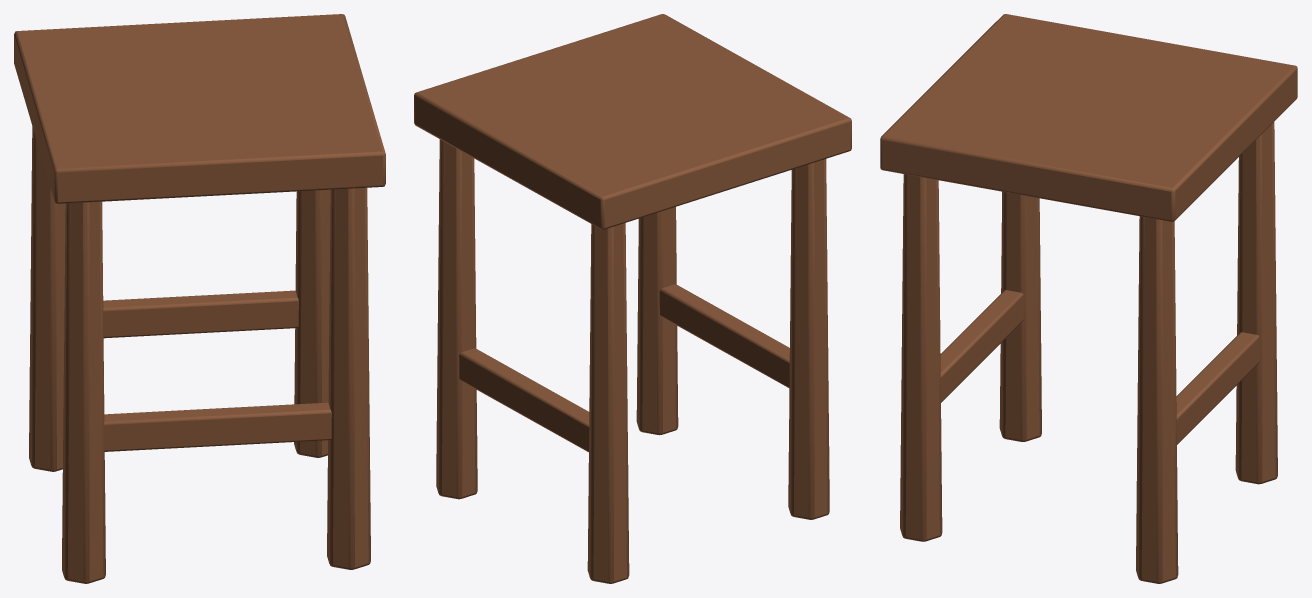
File: GheDauNho.glb
The picture shows the model from 3 angles, left to right: view 1: azimuth 30°, elevation 25°; view 2: azimuth 150°, elevation 25°; view 3: azimuth 270°, elevation 25°; orthographic projection. The views are drawn at different scales.
Parts seen in each view (by area): view 1: GheDauNho; view 2: GheDauNho; view 3: GheDauNho.
Part boxes in pixels (x1,y1,x2,y2): GheDauNho: [14, 14, 385, 583]; GheDauNho: [414, 14, 851, 583]; GheDauNho: [880, 14, 1297, 583].
Bounding box in the file's own units: 0.391 × 0.4175 × 0.391.
